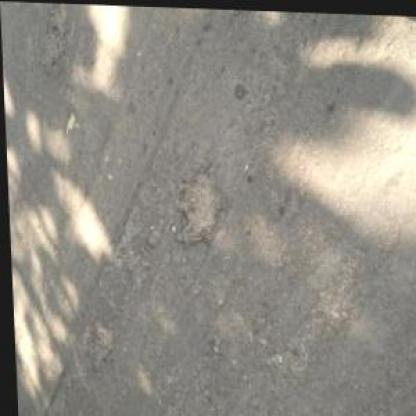pothole: (167, 161, 224, 249)
